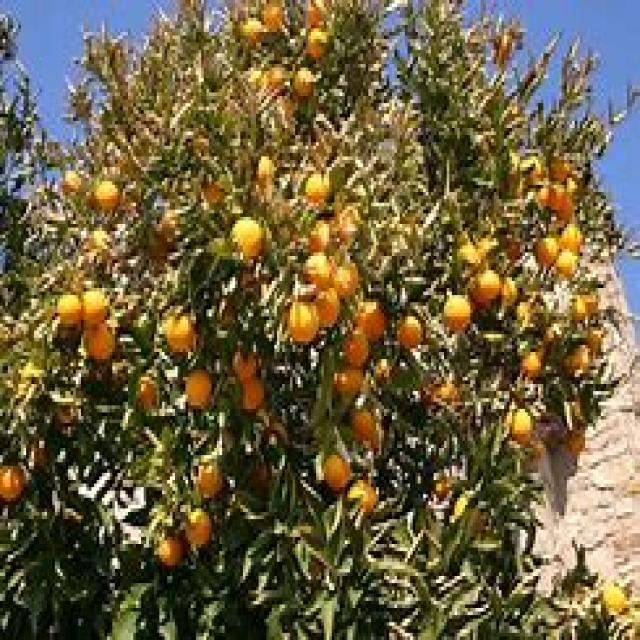Orange: (356, 301, 392, 342), (288, 300, 320, 342), (165, 312, 195, 353), (79, 289, 112, 325), (234, 216, 262, 256), (476, 263, 502, 304), (185, 368, 211, 409), (444, 294, 470, 334), (188, 503, 210, 546), (56, 289, 82, 325), (326, 452, 351, 489), (509, 408, 532, 442), (536, 235, 556, 264), (557, 253, 578, 278)
